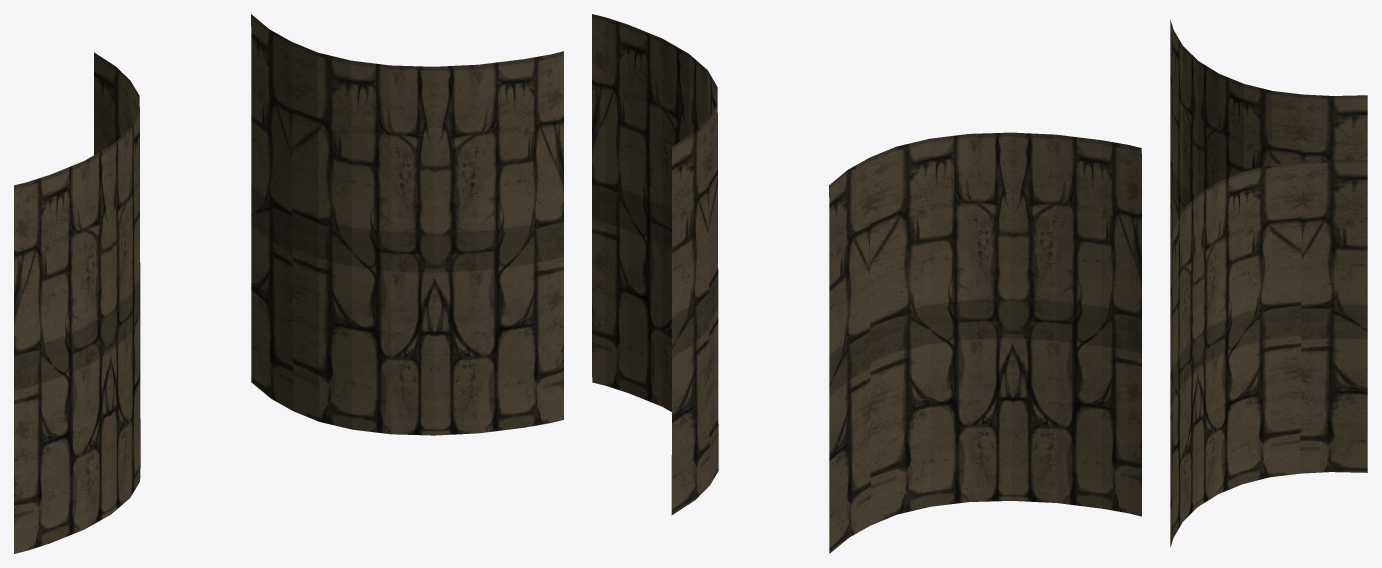
File: GrandStairsWalls.FBX
The picture shows the model from 3 angles, left to right: view 1: azimuth 30°, elevation 25°; view 2: azimuth 150°, elevation 25°; view 3: azimuth 270°, elevation 25°; orthographic projection. The views are drawn at different scales.
Parts seen in each view (by area): view 1: Object001; view 2: Object001; view 3: Object001.
Part boxes in pixels (x1,y1,x2,y2): Object001: [14, 14, 563, 553]; Object001: [592, 14, 1141, 553]; Object001: [1170, 20, 1367, 547].
Size of the model in its own units: 510 by 327 by 187.
